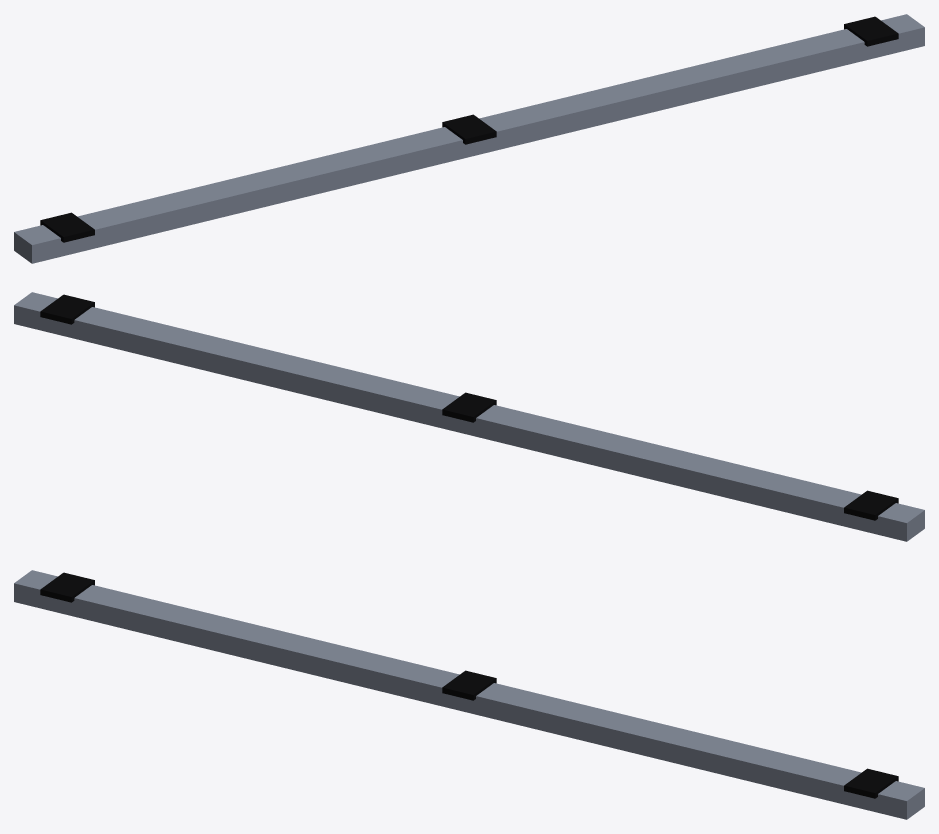
File: SM_Light_Strip_2m.glb
3 renders of one model, top to bottom at view 1: azimuth 30°, elevation 25°; view 2: azimuth 150°, elevation 25°; view 3: azimuth 330°, elevation 25°, orthographic.
Visible parts, largest first — view 1: SM_Light_Strip_2m; view 2: SM_Light_Strip_2m; view 3: SM_Light_Strip_2m.
Part boxes in pixels (x1,y1,x2,y2): SM_Light_Strip_2m: (14, 14, 924, 263); SM_Light_Strip_2m: (14, 292, 924, 541); SM_Light_Strip_2m: (14, 570, 924, 819).
Bounding box in the file's own units: 2 × 0.051 × 0.09.
